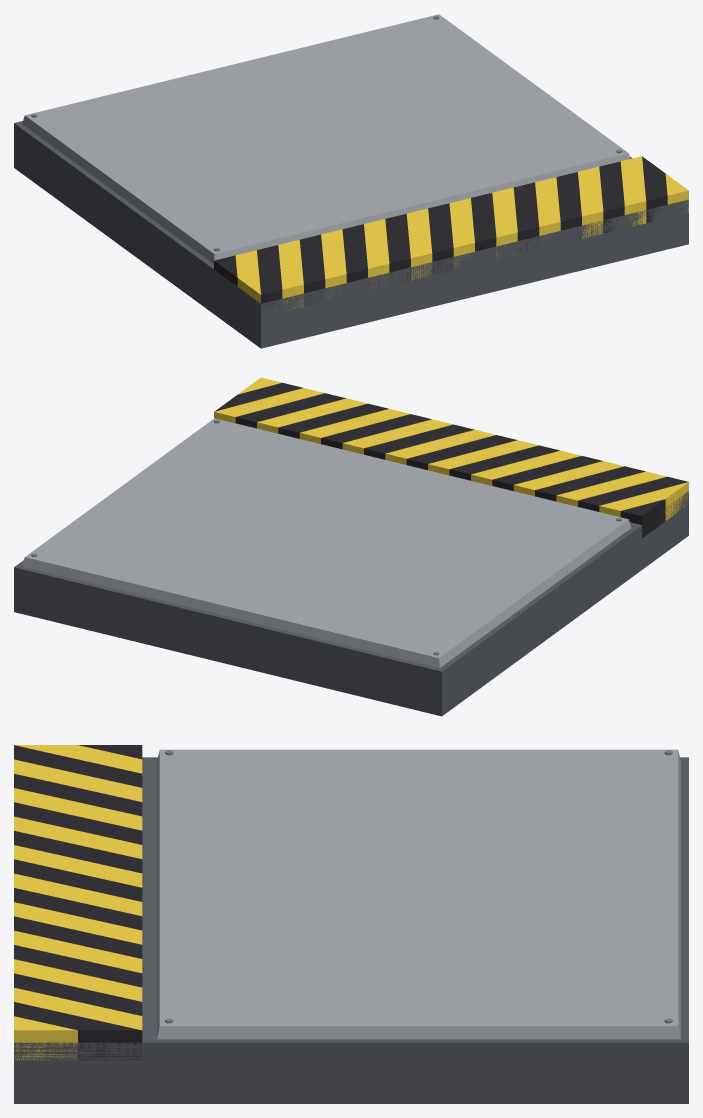
Rendered from SM_Floor_Hazard_Edge.glb.
3 renders of one model, top to bottom at view 1: azimuth 30°, elevation 25°; view 2: azimuth 150°, elevation 25°; view 3: azimuth 270°, elevation 25°, orthographic. The views are drawn at different scales.
Visible parts, largest first — view 1: SM_Floor_Hazard_Edge; view 2: SM_Floor_Hazard_Edge; view 3: SM_Floor_Hazard_Edge.
Part boxes in pixels (<box>): SM_Floor_Hazard_Edge: <box>14,14,688,348</box>; SM_Floor_Hazard_Edge: <box>14,377,688,716</box>; SM_Floor_Hazard_Edge: <box>14,745,688,1103</box>.
Size of the model in its own units: 2 by 0.246 by 2.
